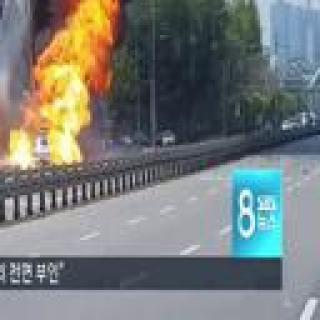fire: (31, 52, 80, 166), (72, 0, 116, 59), (10, 120, 29, 170), (82, 62, 107, 98)
